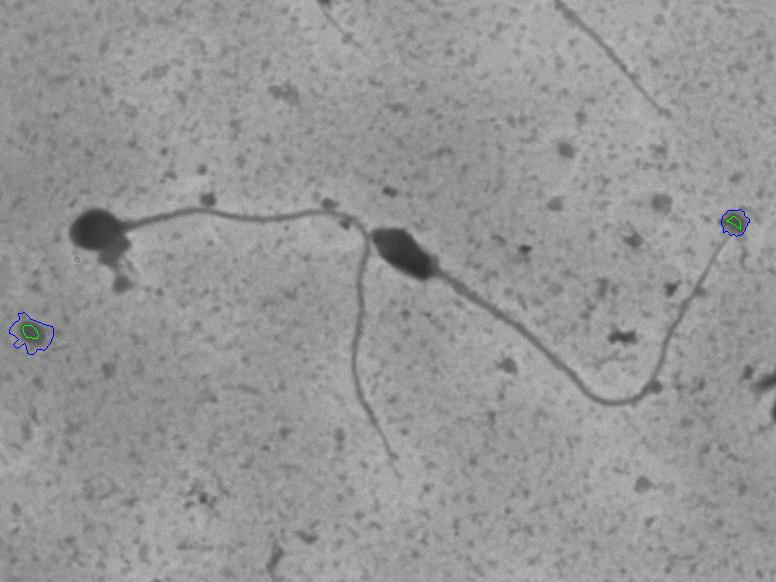Abnormal: (364, 212, 744, 428)
Normal: (59, 195, 415, 487)
